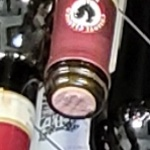bottle: (32, 43, 123, 135)
